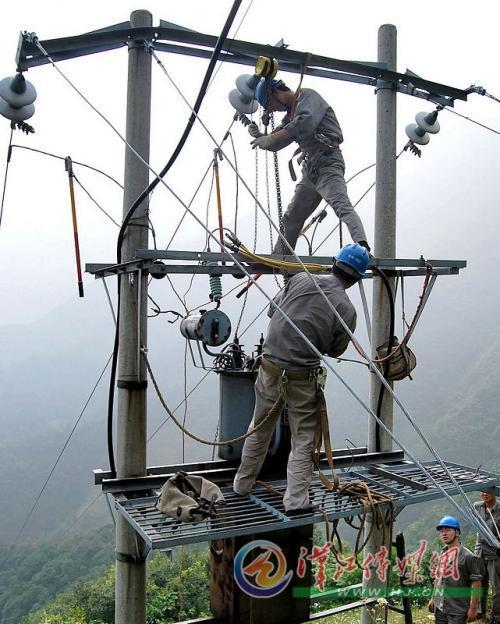person: (233, 243, 367, 516), (256, 78, 384, 254)
